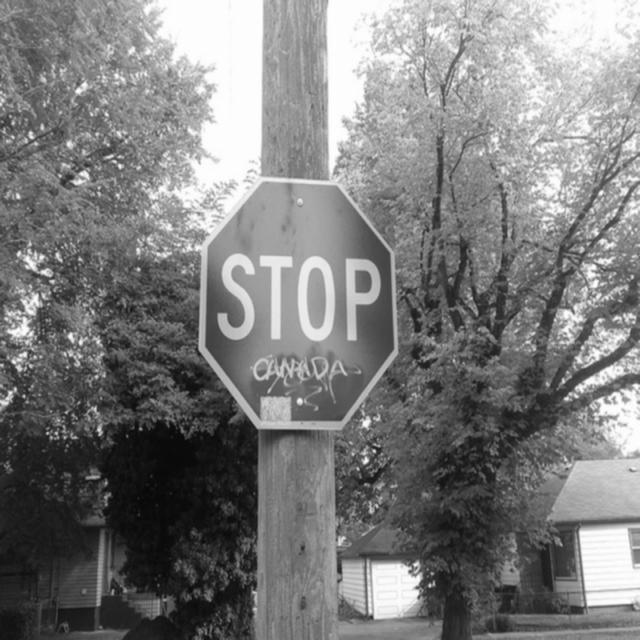ash bin: (498, 580, 516, 612)
pole: (246, 1, 357, 634)
